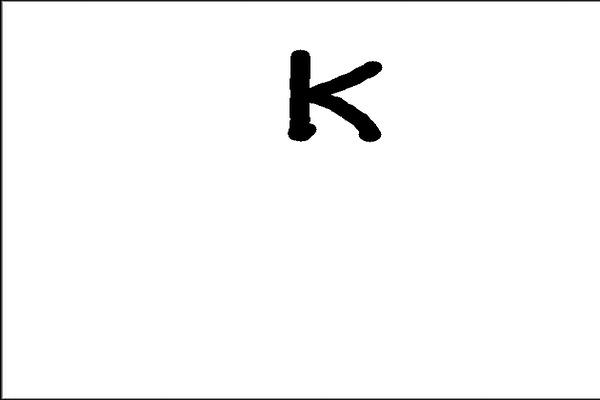K: (278, 39, 388, 150)
